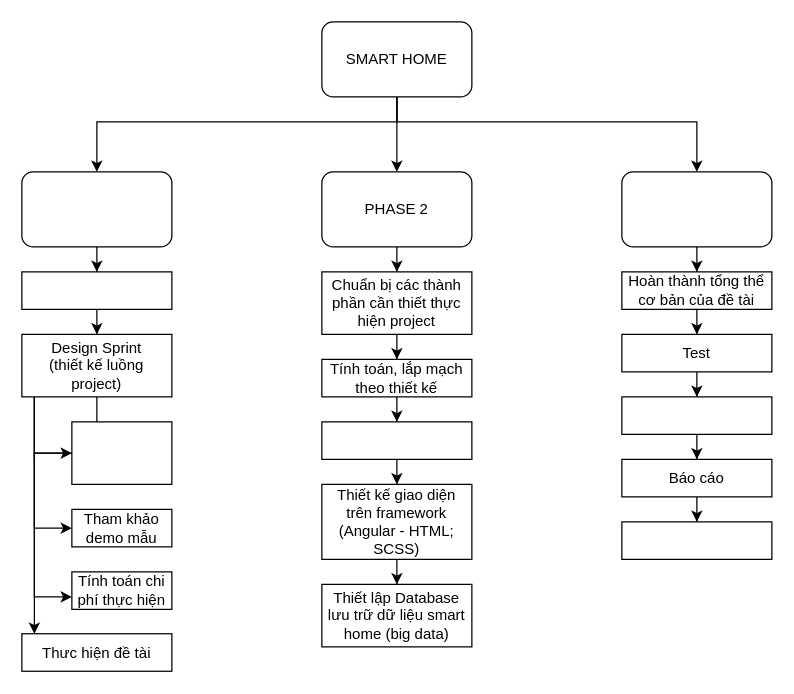
Image size: 794x694. Some labels were removed from this diagram. The shapes that lost their labels are listed below. From the top down, each one's centre as x and y in pixels, then its label:
At point 96,209: "PHASE 1".
At point 696,209: "PHASE 3".
At point 96,290: "Họp nhóm, thống nhất đề tài".
At point 696,415: "Tổng hợp".
At point 121,452: "Thiết kế trải nghiệm sản phẩm (UX, UI)".
At point 396,440: "Coding arduino".
At point 696,540: "Thiết trình".
